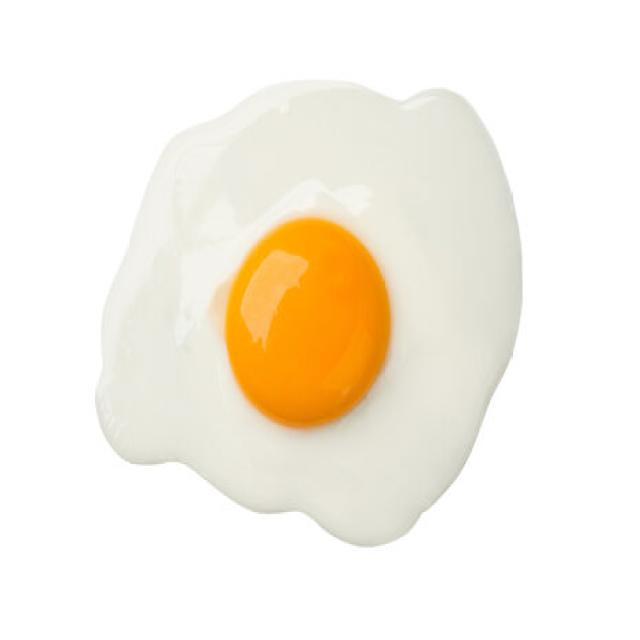Egg: (96, 82, 521, 545)
